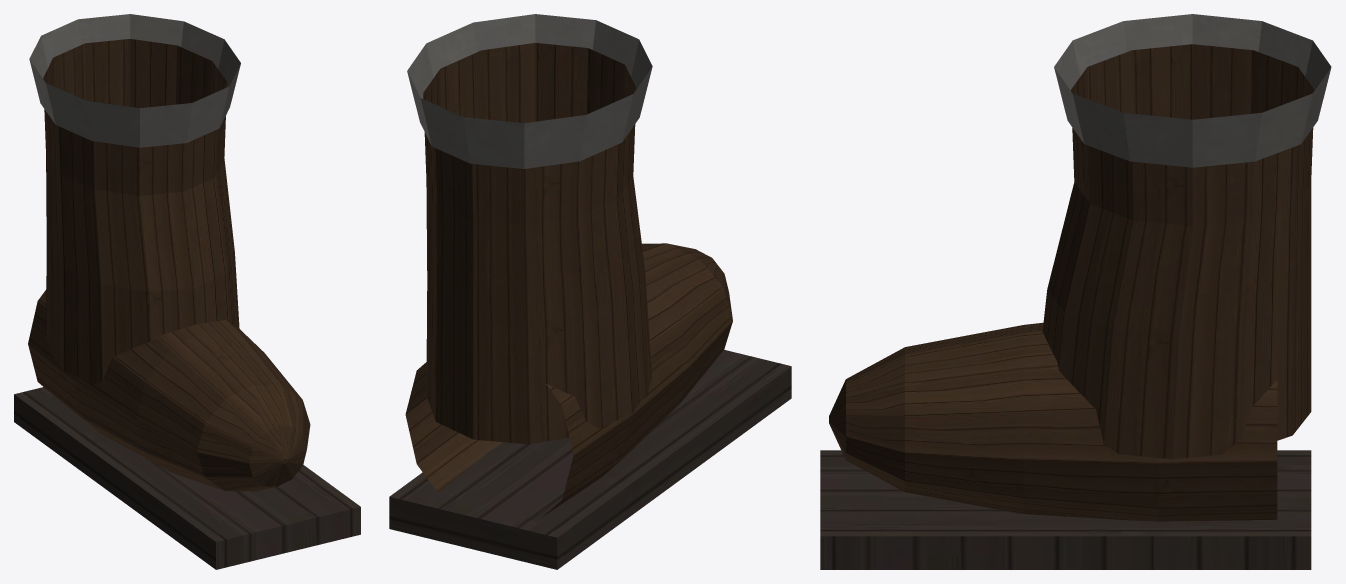
Rendered from eq_past_1_boot.glb.
3 views of the same model, side by side, from view 1: azimuth 30°, elevation 25°; view 2: azimuth 150°, elevation 25°; view 3: azimuth 270°, elevation 25° (orthographic). The views are drawn at different scales.
Visible parts, largest first — view 1: eq_past_1_boot; view 2: eq_past_1_boot; view 3: eq_past_1_boot.
Boxes of the visible parts, x1,y1,x2,y2 form: eq_past_1_boot: (14, 14, 360, 569); eq_past_1_boot: (389, 14, 791, 569); eq_past_1_boot: (820, 14, 1331, 569).
Size of the model in its own units: 0.148 by 0.3 by 0.302.
Materials: 3 (3 with a texture image).
